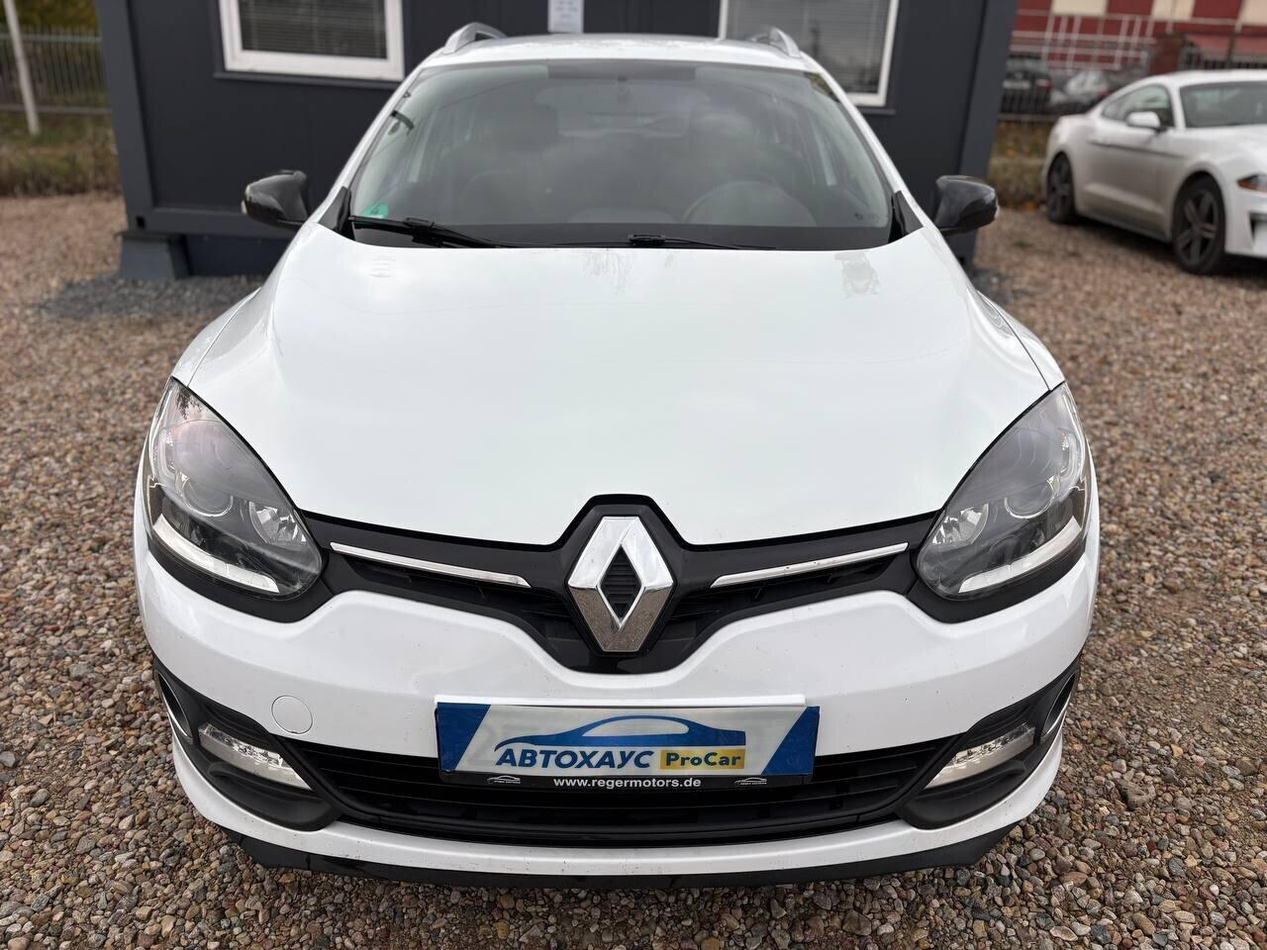Megane_2014-2016: (120, 14, 1116, 896)
